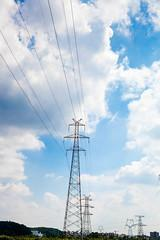power_tower: (61, 114, 87, 236)
